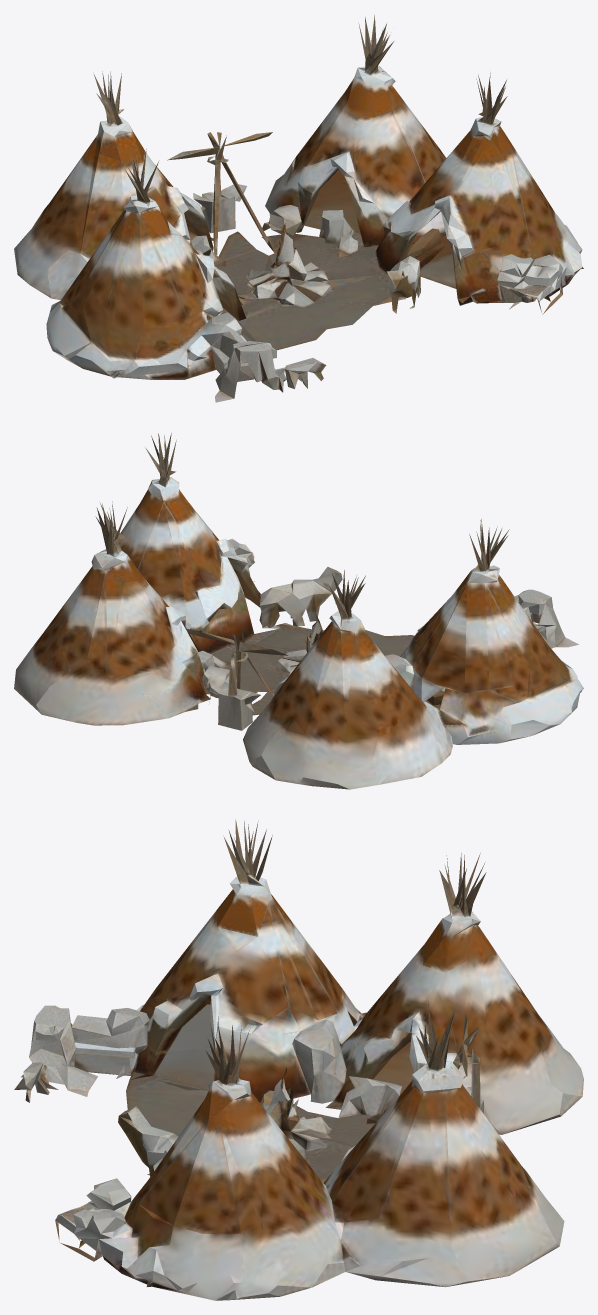
Rendered from reghed.glb.
3 renders of one model, top to bottom at view 1: azimuth 30°, elevation 25°; view 2: azimuth 150°, elevation 25°; view 3: azimuth 270°, elevation 25°, orthographic. The views are drawn at different scales.
Bounding box in the file's own units: 1.9 × 0.6897 × 1.51.
1 material, 1 textured.
